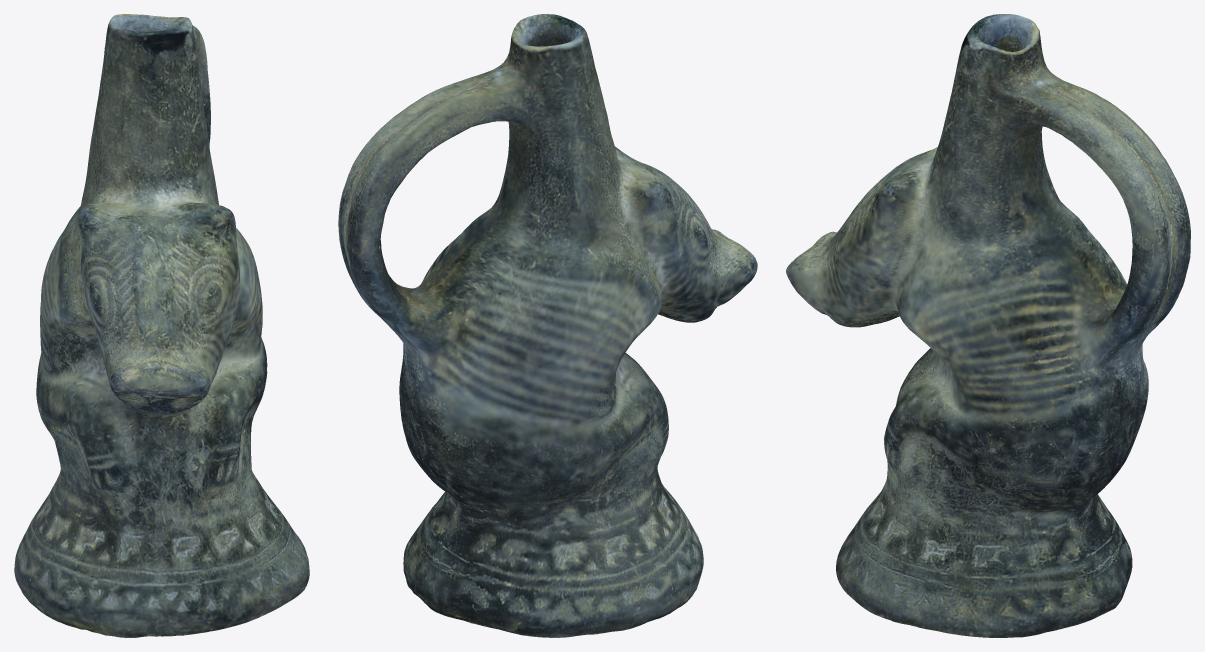
The model's file is botella_de_ceramica_del_estilo_chimu.glb.
3 renders of one model, left to right at view 1: azimuth 30°, elevation 25°; view 2: azimuth 150°, elevation 25°; view 3: azimuth 270°, elevation 25°, orthographic.
Parts seen in each view (by area): view 1: Model; view 2: Model; view 3: Model.
Part boxes in pixels (x1,y1,x2,y2): Model: (14,14,309,637); Model: (338,14,757,637); Model: (786,14,1190,637).
Bounding box in the file's own units: 3.6 × 7.46 × 4.94.
1 material, 1 textured.
